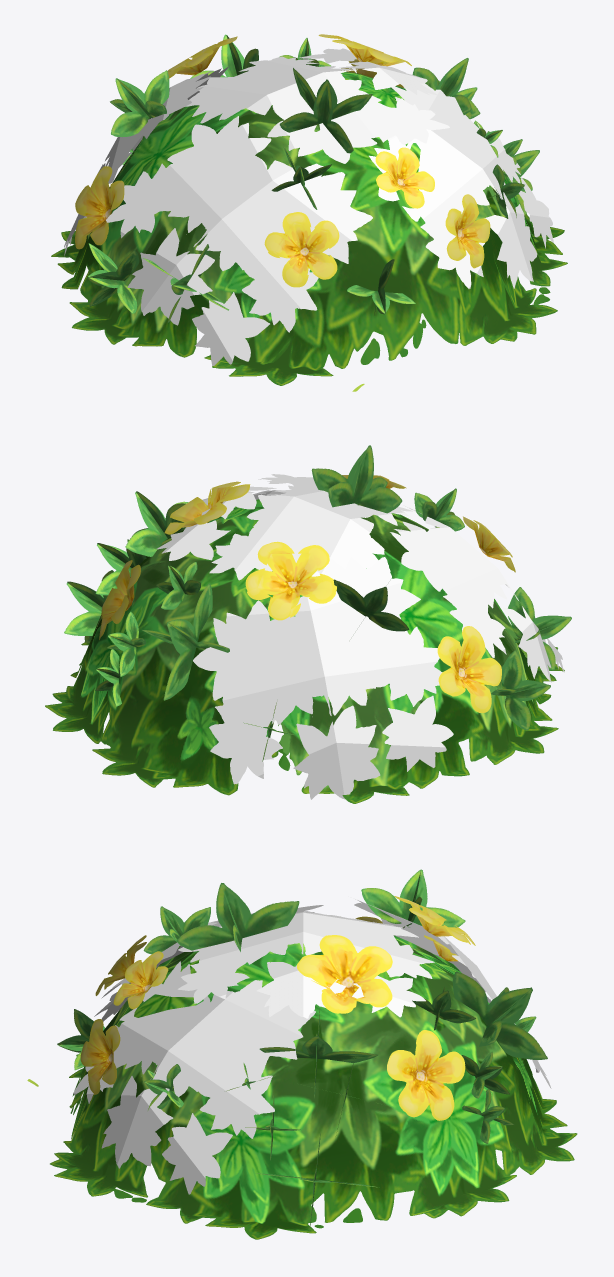
The model's file is arbusto_redondo.fbx.
3 views of the same model, one above another, from view 1: azimuth 30°, elevation 25°; view 2: azimuth 150°, elevation 25°; view 3: azimuth 270°, elevation 25° (orthographic). The views are drawn at different scales.
Parts seen in each view (by area): view 1: arbusto_redondo; view 2: arbusto_redondo; view 3: arbusto_redondo.
Boxes of the visible parts, x1,y1,x2,y2 form: arbusto_redondo: (51, 34, 567, 391); arbusto_redondo: (45, 445, 571, 803); arbusto_redondo: (27, 869, 577, 1239).
Size of the model in its own units: 900 by 487 by 886.
